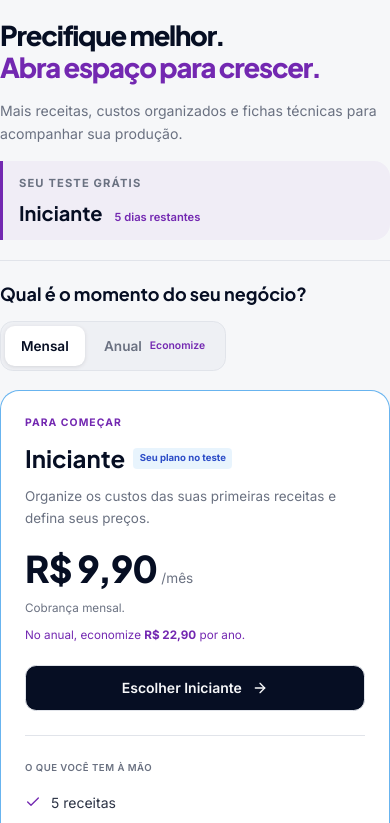
Test: plans selection › uses live annual values, explains the charge and sends the selected plan, period and affiliate
Later steps or results of the test are not shown.
Click the button with aria-label "Cobrança anual". click: (154, 346)
box: x1=88 y1=326 x2=221 y2=366
(page scrolled)
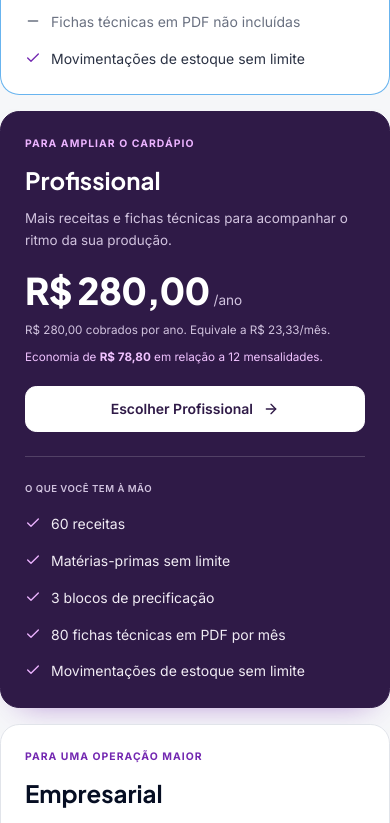
Expected: the text "R$ 78,80" is shown, x1=100 y1=350 x2=151 y2=364
Expected: the text "R$ 280,00" is shown, x1=25 y1=267 x2=210 y2=313
Expected: the text "R$ 280,00 cobrados por ano. Equivale a R$ 23,33/mês." is shown, x1=25 y1=321 x2=365 y2=340
